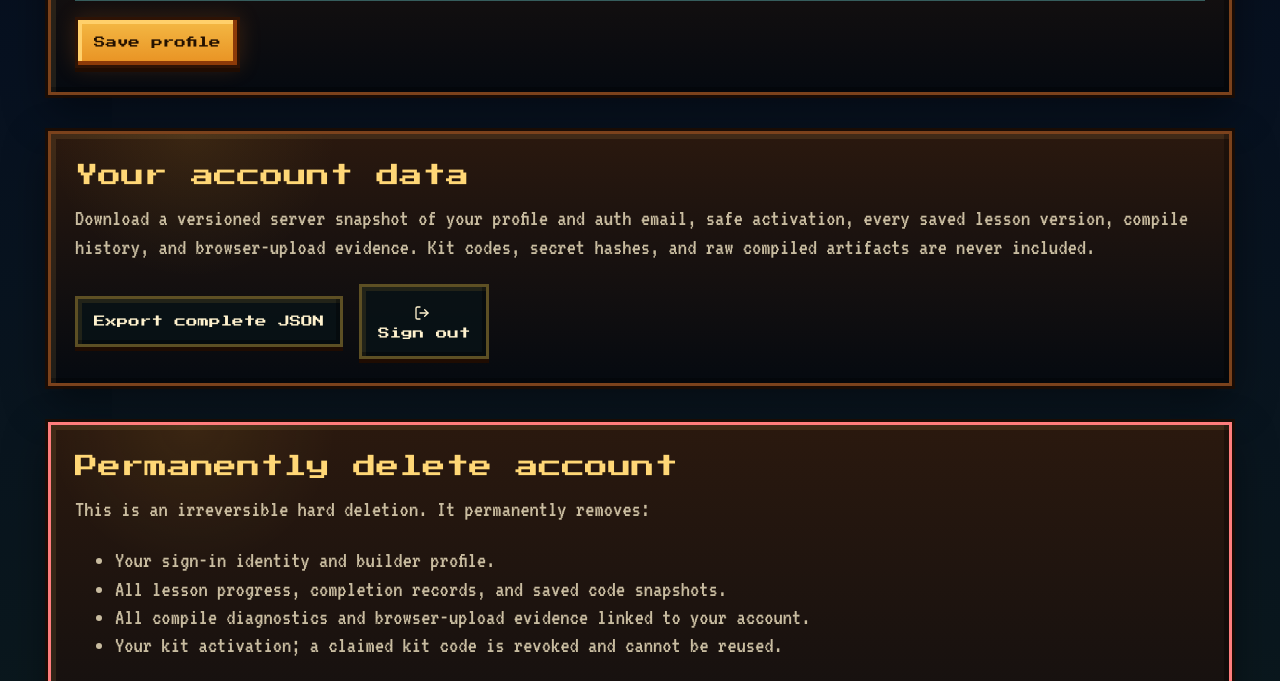
it: account data and deletion › shows full activation details and downloads the complete server export
The width and height of the screenshot is (1280, 681).
(page scrolled)
Click the button "Export complete JSON".
click(209, 321)  # box [75, 296, 343, 347]
(page scrolled)
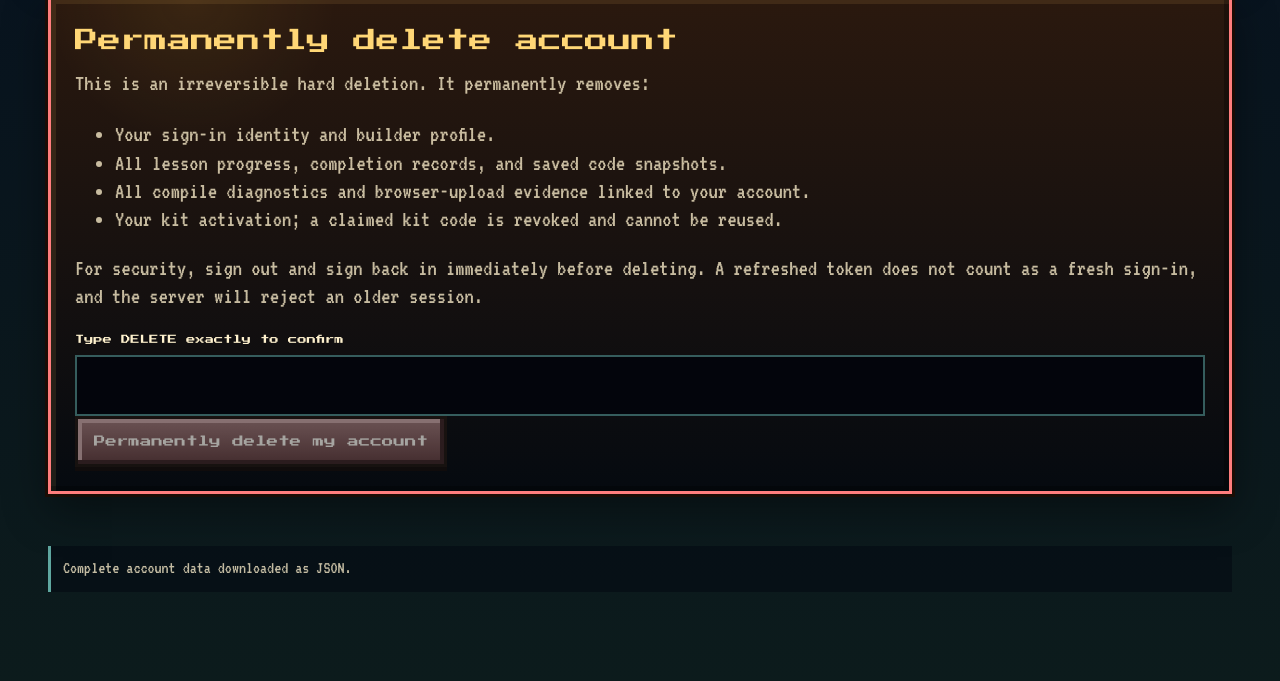
expect the message shows "Complete account data downloaded": met, box [63, 559, 352, 577]
